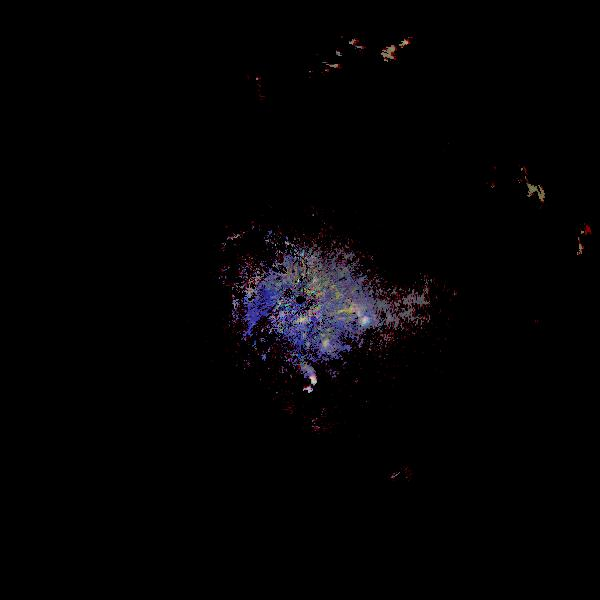roost: (333, 301, 375, 343), (283, 358, 325, 400)
